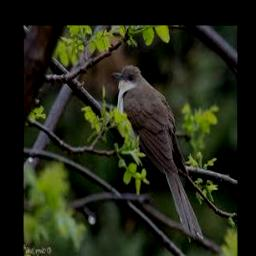Cuckoo: (111, 64, 204, 243)
